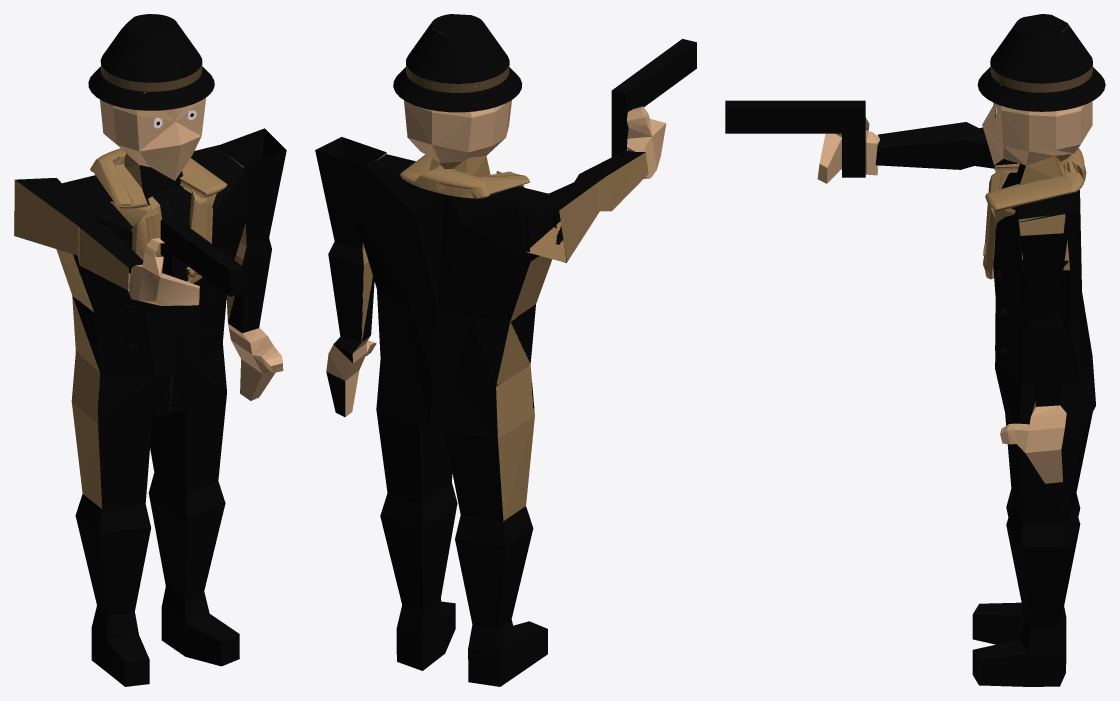
Rendered from enemy.obj.
3 renders of one model, left to right at view 1: azimuth 30°, elevation 25°; view 2: azimuth 150°, elevation 25°; view 3: azimuth 270°, elevation 25°, orthographic. The views are drawn at different scales.
Visible parts, largest first — view 1: Cube.001_Cube.001, Cube_Cube.001; view 2: Cube.001_Cube.001, Cube_Cube.001; view 3: Cube.001_Cube.001, Cube_Cube.001.
Boxes of the visible parts, bbox=[...] form: Cube.001_Cube.001: bbox=[14, 14, 286, 686]; Cube_Cube.001: bbox=[160, 217, 244, 296]; Cube.001_Cube.001: bbox=[315, 14, 666, 686]; Cube_Cube.001: bbox=[611, 39, 696, 156]; Cube.001_Cube.001: bbox=[817, 14, 1105, 686]; Cube_Cube.001: bbox=[725, 100, 865, 177].
Size of the model in its own units: 5.88 by 14.23 by 7.7.
